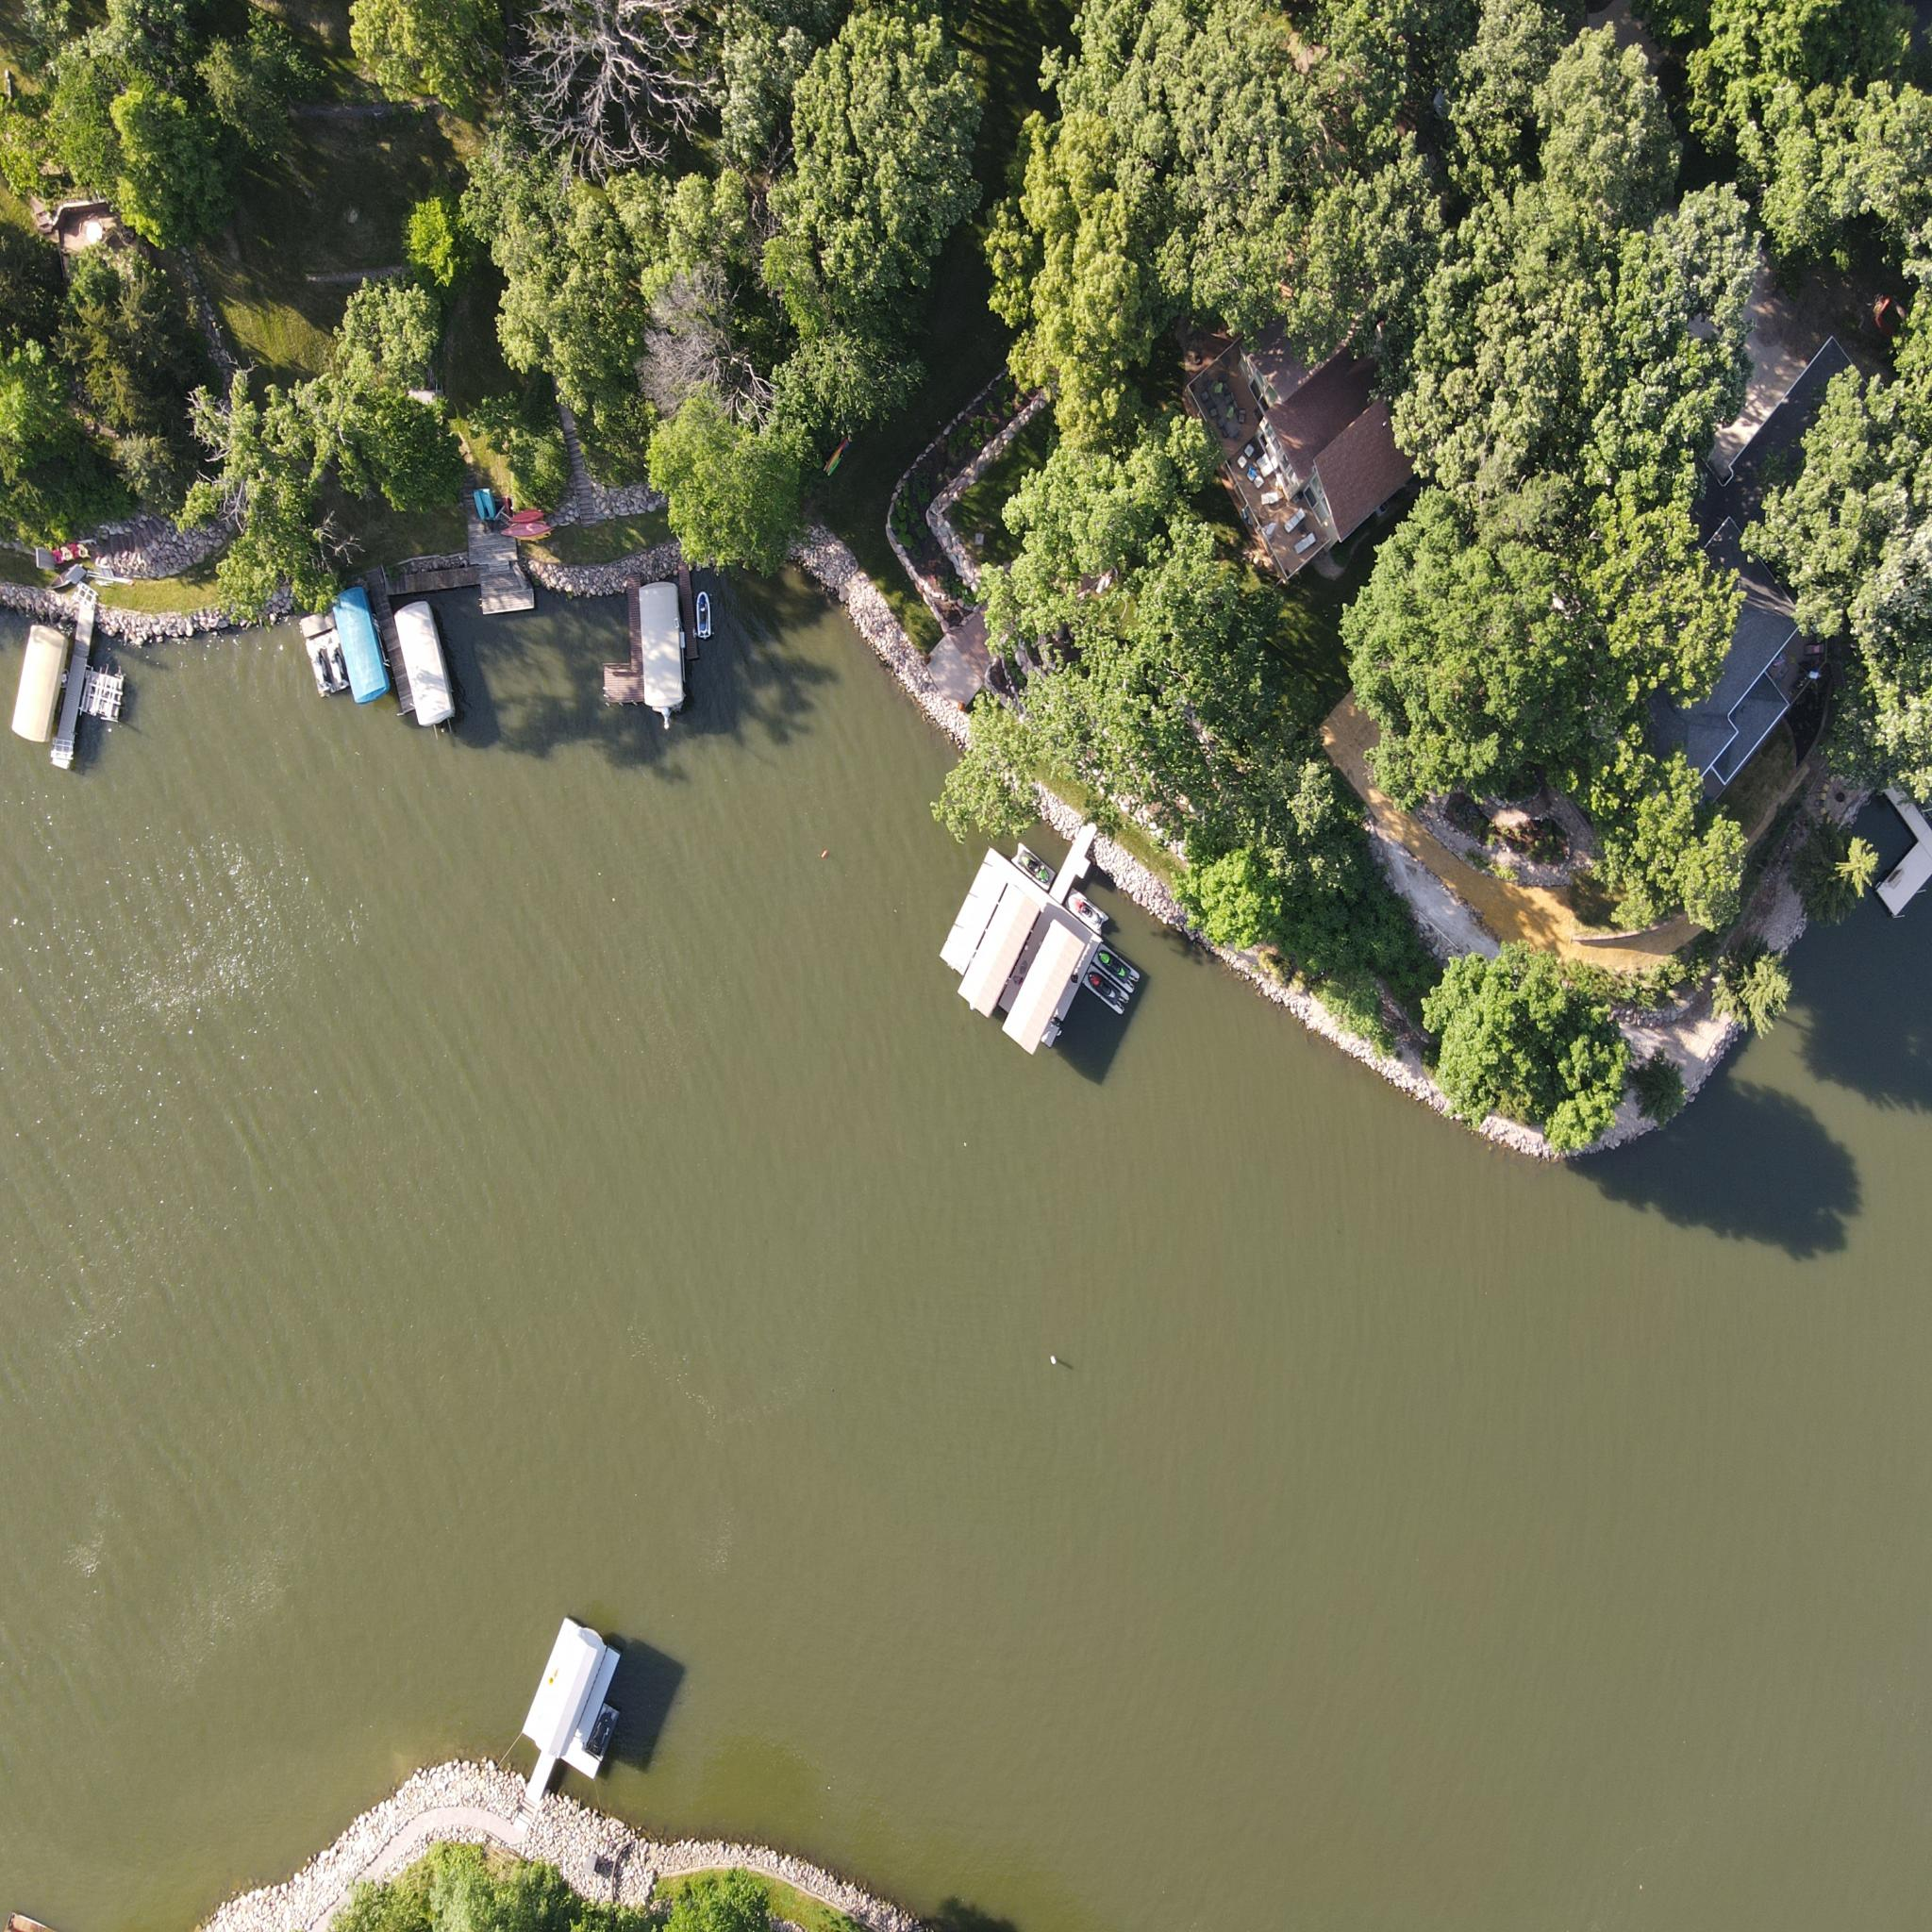boat: (517, 1608, 655, 1821)
dock: (961, 796, 1150, 1085), (352, 550, 534, 747), (594, 543, 720, 748), (46, 570, 142, 812), (1863, 775, 1932, 922)
jetski: (1093, 936, 1141, 993), (1081, 961, 1129, 1017), (1012, 842, 1056, 893), (1067, 883, 1111, 931), (586, 1700, 617, 1764), (306, 646, 331, 701), (694, 589, 717, 637), (329, 642, 349, 695)
lift: (966, 862, 1035, 1026), (543, 1624, 605, 1792), (1016, 908, 1083, 1062), (391, 602, 467, 731), (14, 614, 80, 750), (637, 573, 694, 722), (333, 598, 387, 706), (85, 663, 129, 736)
